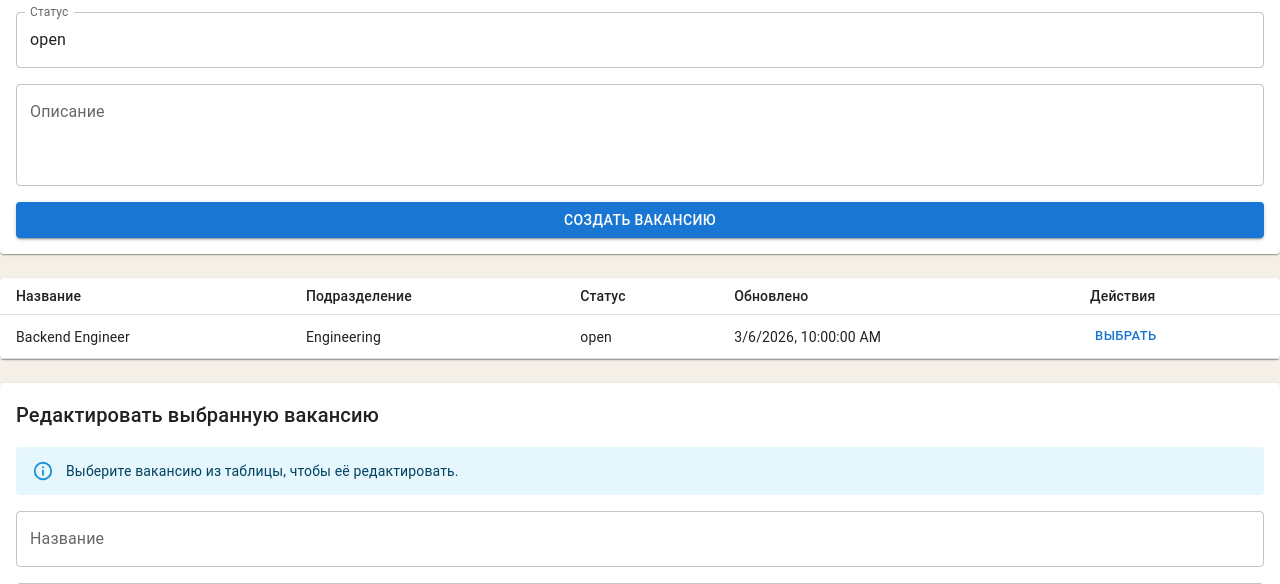
it: HrDashboardPage › loads vacancies and pipeline history for the selected candidate
The image size is (1280, 584).
(page scrolled)
Click the button "Выбрать" at (1126, 337), box [1090, 321, 1162, 352]
(page scrolled)
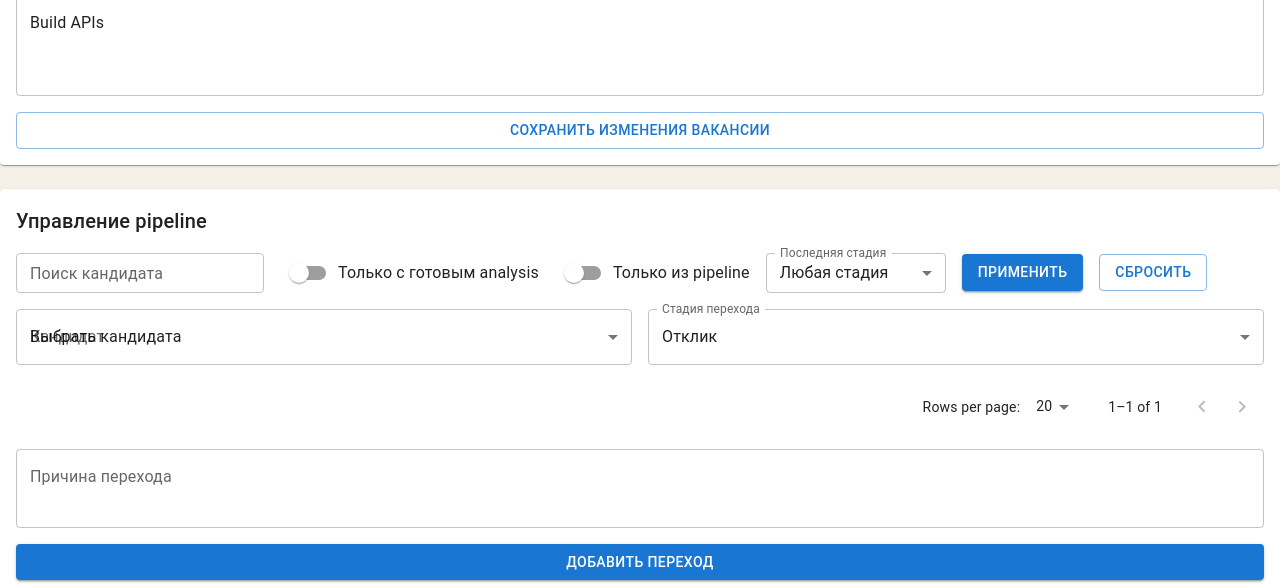
Select "John Doe (john@example.com)" in the dropdown labelled "Кандидат" at (324, 336), box [16, 308, 632, 364]
(page scrolled)
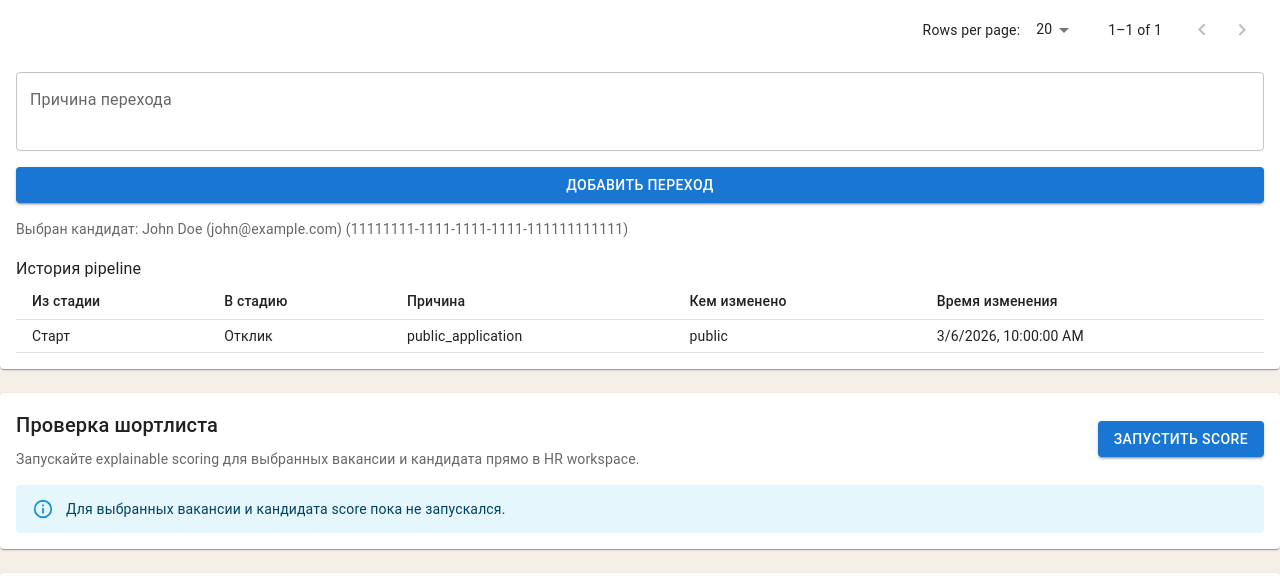
Result: the text "public_application" is shown at [391, 320, 674, 352]
Result: the cell "Отклик" is shown at [208, 320, 391, 352]
